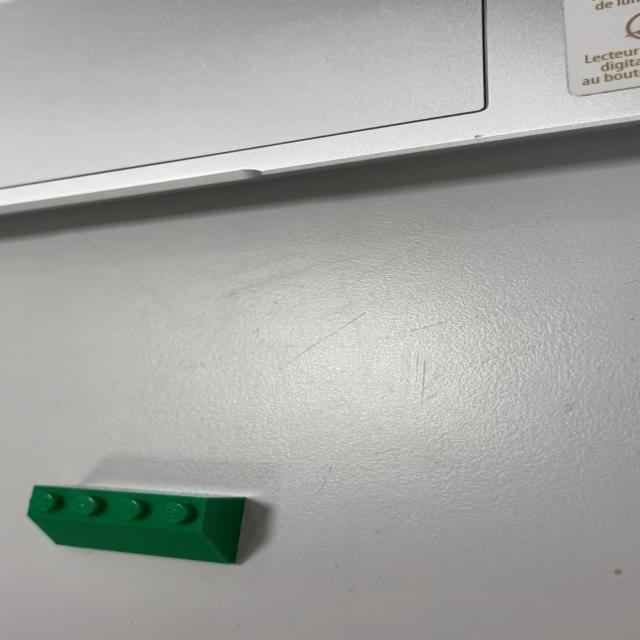P4x2x1: (25, 484, 246, 564)
